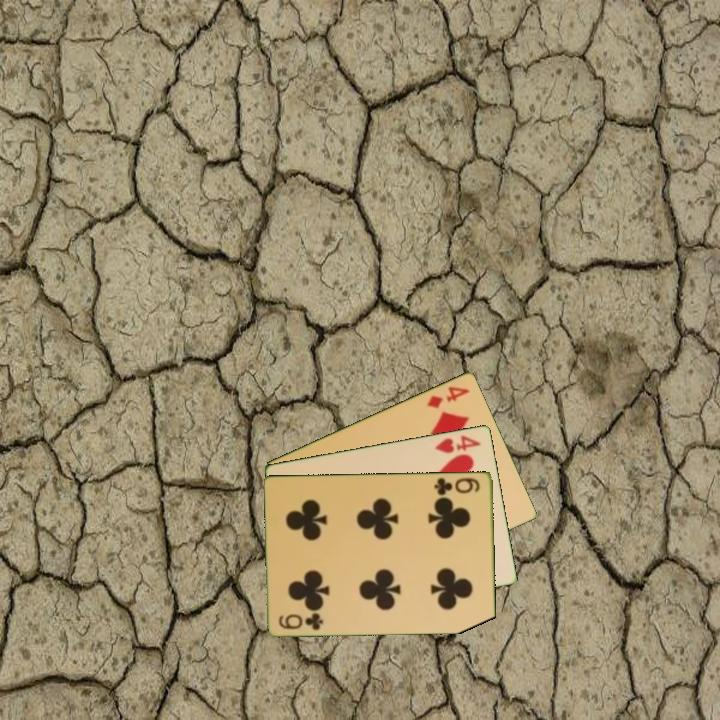4d: (424, 382, 473, 411)
4h: (432, 431, 484, 456)
6c: (431, 474, 483, 498), (276, 609, 326, 632)
